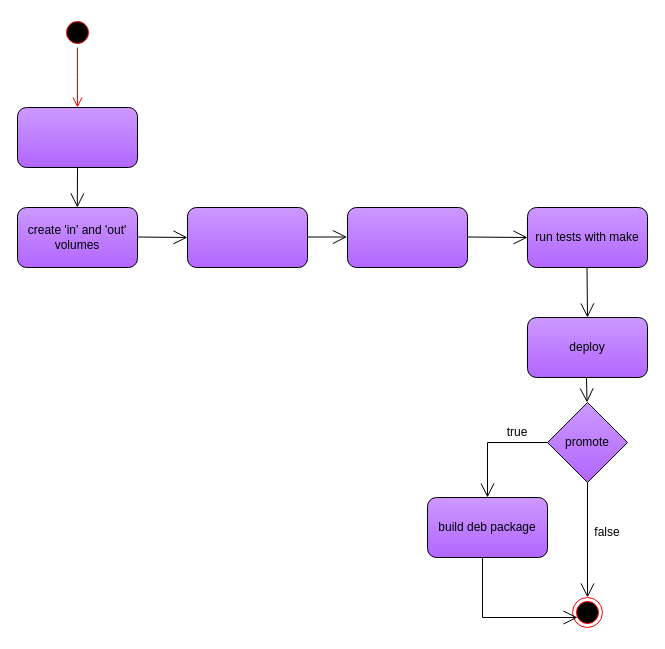
Some shapes in this 665 by 649 pixel diagram are drawn without their labels. Here are the shapes that lost their labels. From the top down, the box of each, then its label:
(16, 106, 138, 168): clone MD2022_S repository
(186, 206, 308, 268): clone mle repository
(346, 206, 468, 268): compile with make
